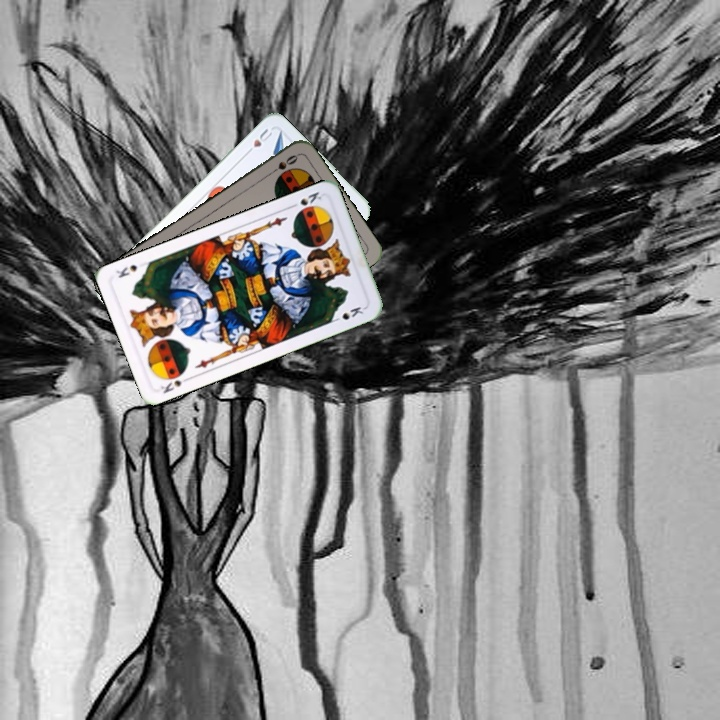HU: (241, 124, 275, 157)
SK: (286, 188, 324, 211), (157, 373, 193, 396)
SO: (264, 150, 300, 178)
